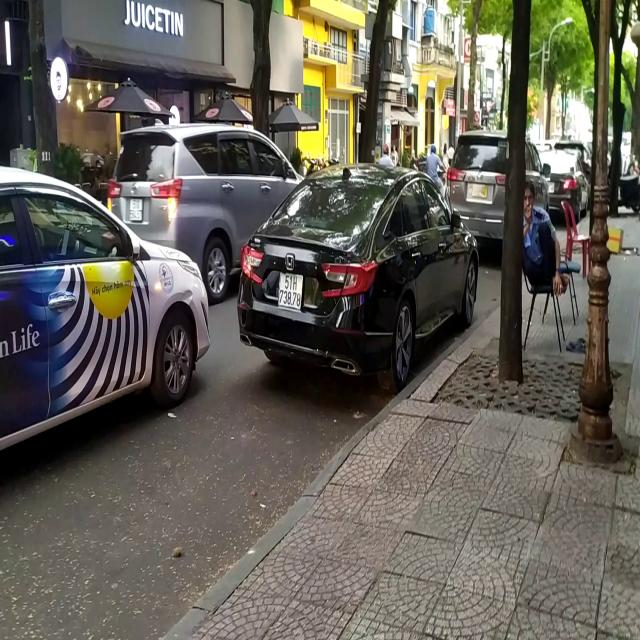bien_trang: (275, 268, 303, 312)
